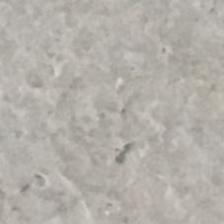Non_Crack: (12, 20, 215, 185)
